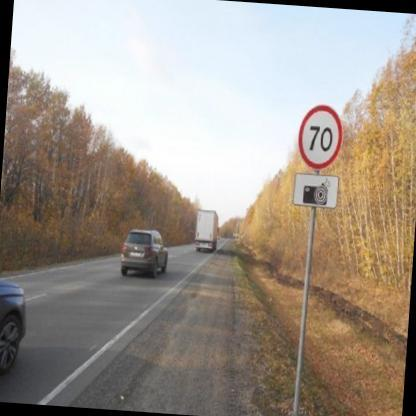road_sign: (299, 105, 343, 170), (295, 173, 338, 206)
